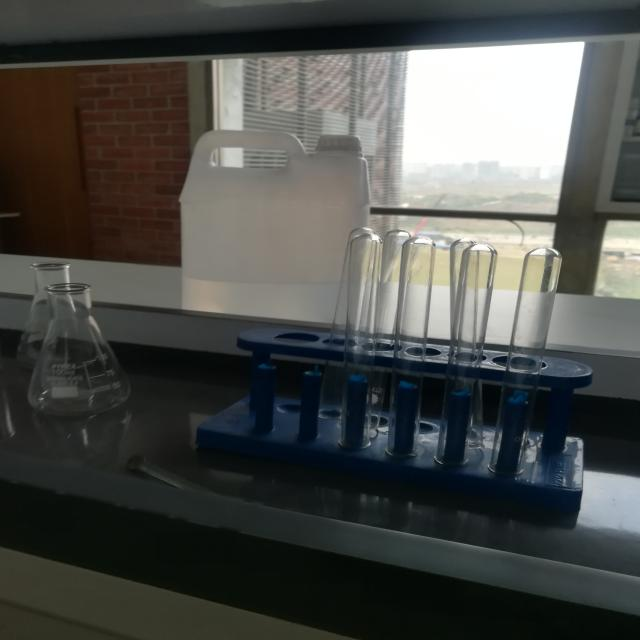Conical_Flask: (14, 250, 144, 434)
Test_Tube: (284, 168, 592, 509)
